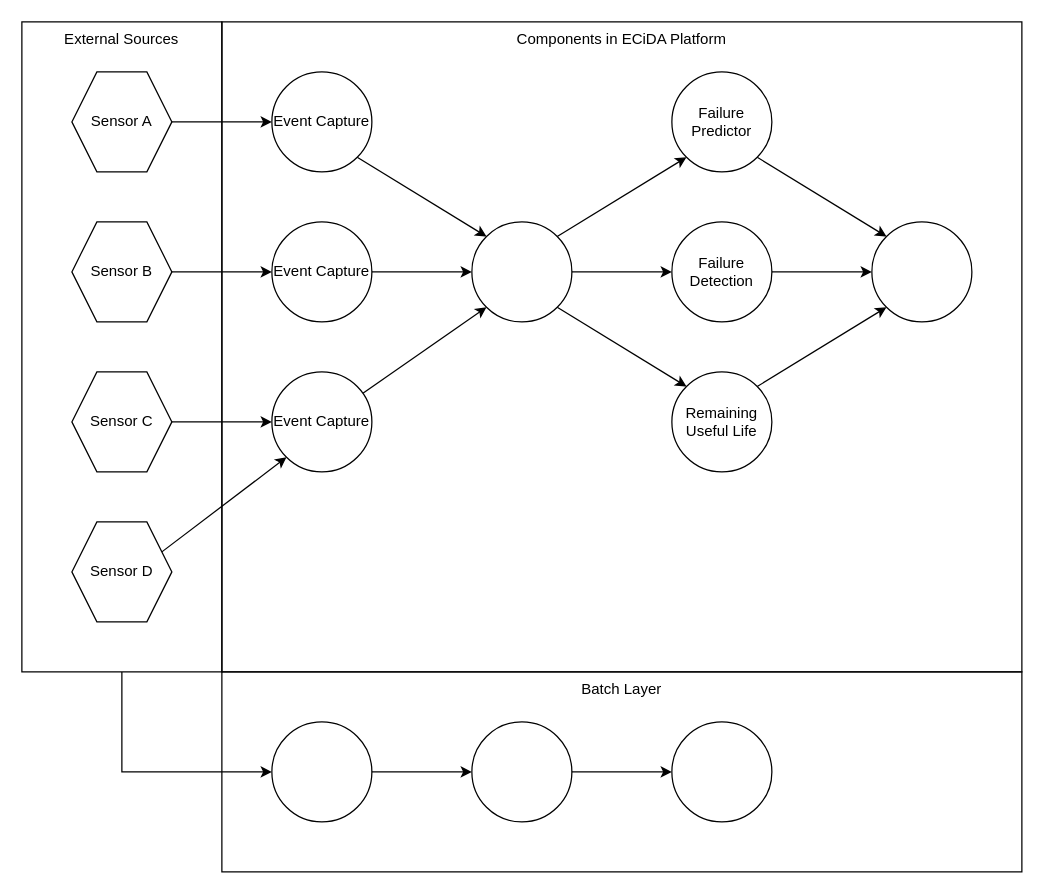
Image size: 1044x894. Some labels were removed from this diagram. The centre of each missing label's shape, as x and y in pixels:
Aggregator: the point at 521,271
Analyze Event: the point at 521,771
Collect Data: the point at 321,771
Send/Save Results: the point at 921,271
Update Streaming Pipeline: the point at 721,771
